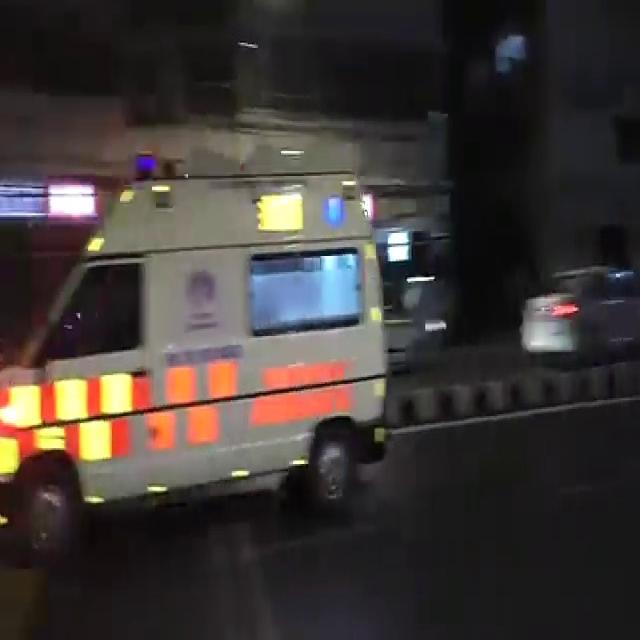ambulance: (6, 145, 392, 536)
